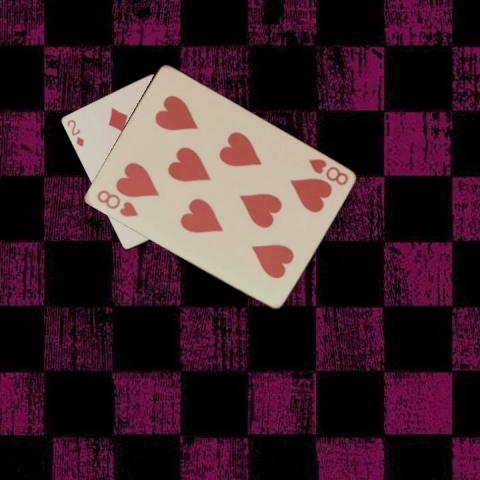2d: (64, 117, 86, 148)
8h: (93, 186, 139, 218), (305, 156, 349, 188)
